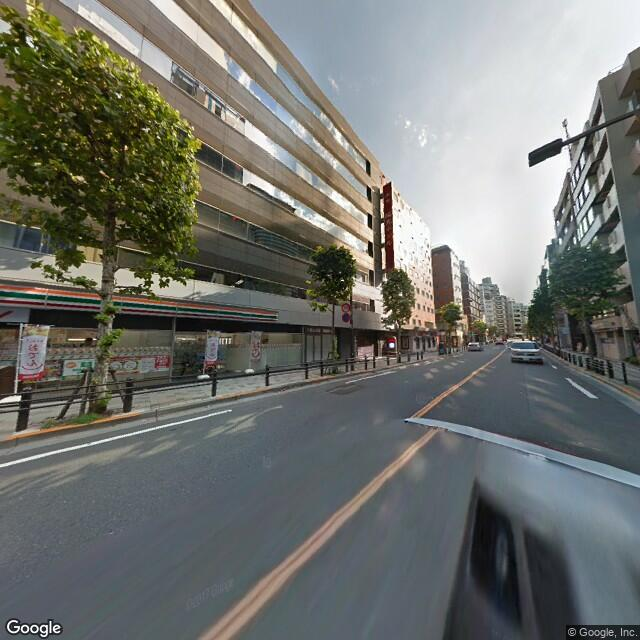7-eleven: (2, 276, 281, 331)
